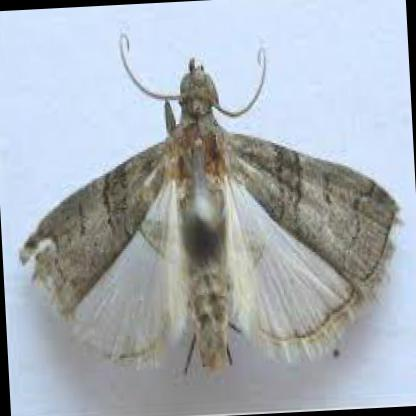Leaf Webber: (19, 49, 403, 385)
